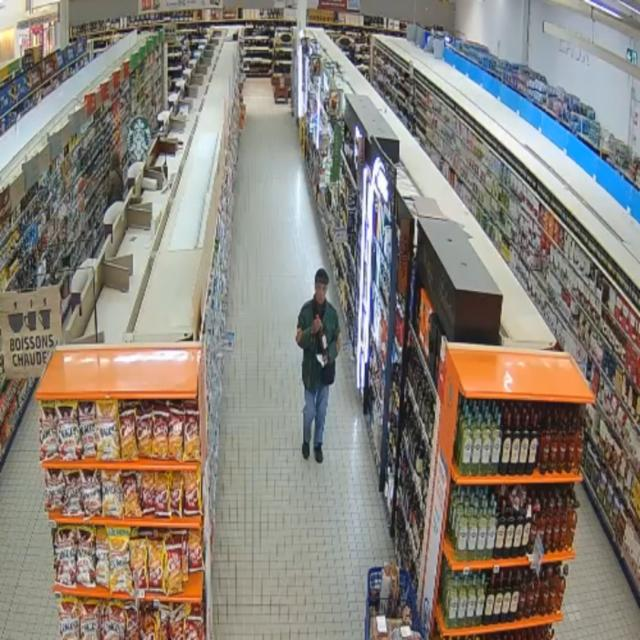article: (316, 328, 329, 351)
bags: (322, 363, 335, 385)
hands: (311, 319, 323, 334), (323, 351, 328, 366)
person: (296, 269, 340, 462)
